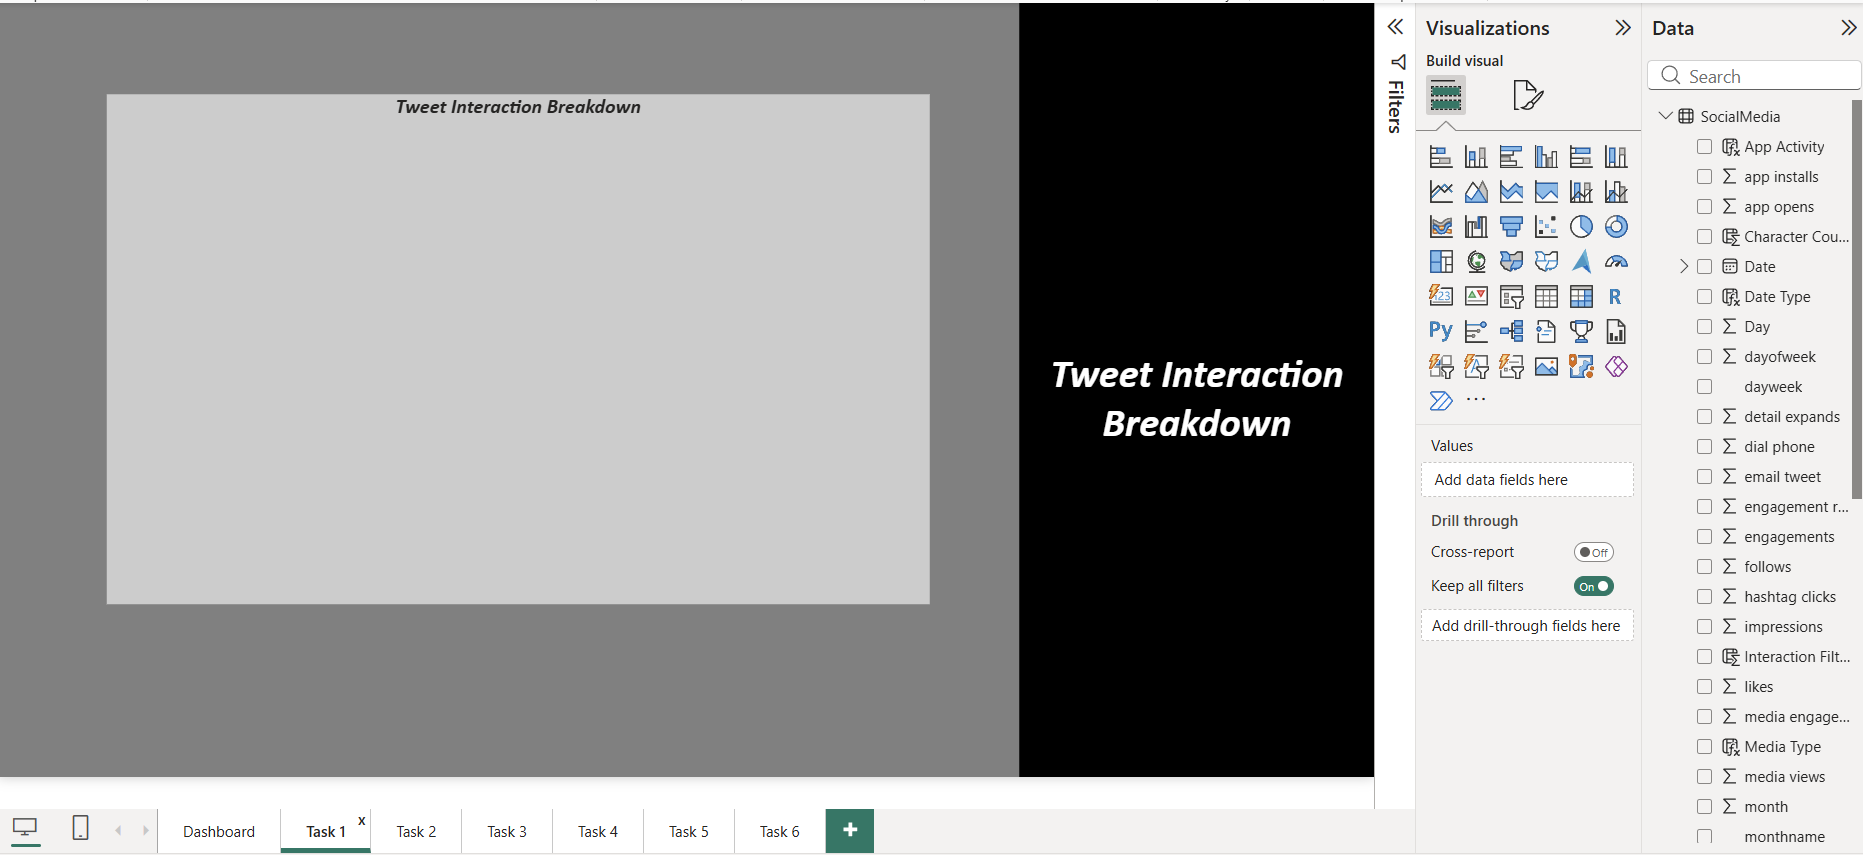

Layout of this report page (visuals, bound fields, positions):
{"tool":"powerbi","page":{"name":"Task 1","canvas":[1280,720],"ordinal":1},"visuals":[{"type":"clusteredBarChart","title":"Tweet Interaction Breakdown","fields":{"Category":["SocialMedia.Tweet Category"],"Y":["Sum(SocialMedia.user profile clicks)","Sum(SocialMedia.hashtag clicks)","Sum(SocialMedia.url clicks)"]},"box":[101.5,85.1,765.7,474.8],"z":0},{"type":"textbox","box":[949.6,0,330.7,720.4],"z":1000}]}

Visuals, with their boxes on the page's 1280x720 design canvas (x1, y1, x2, y2). These are canvas units, not pixel positions in the 1863x855 screenshot, which may show the page scaled, cropped or inside an application window:
"Tweet Interaction Breakdown" clusteredBarChart: 102/85/867/560
textbox: 950/0/1280/720
